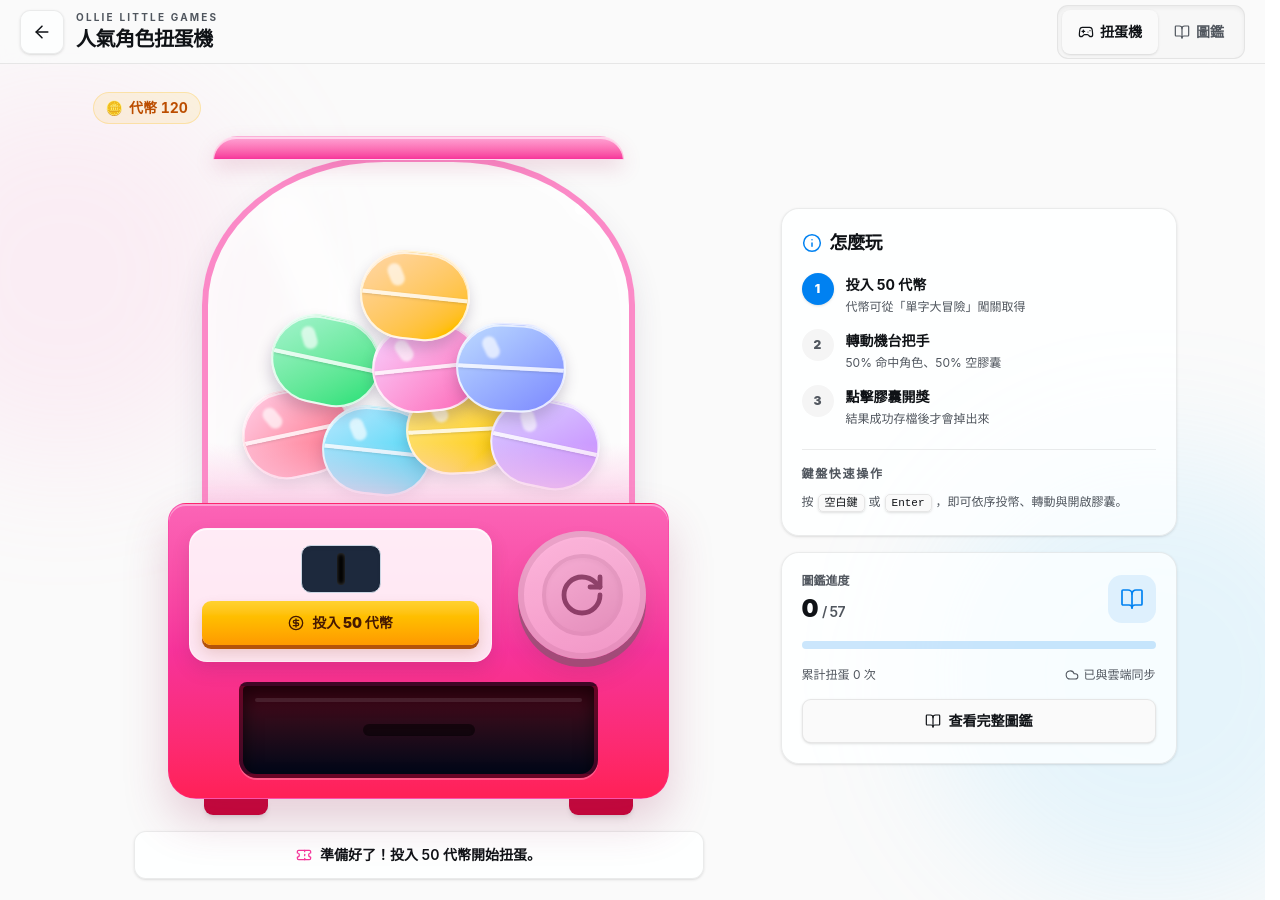
Test: GachaMachine coin economy › shows the coin balance and updates it after a paid draw
Click the button "投入 50 代幣" at (340, 623), box [202,601,479,645]
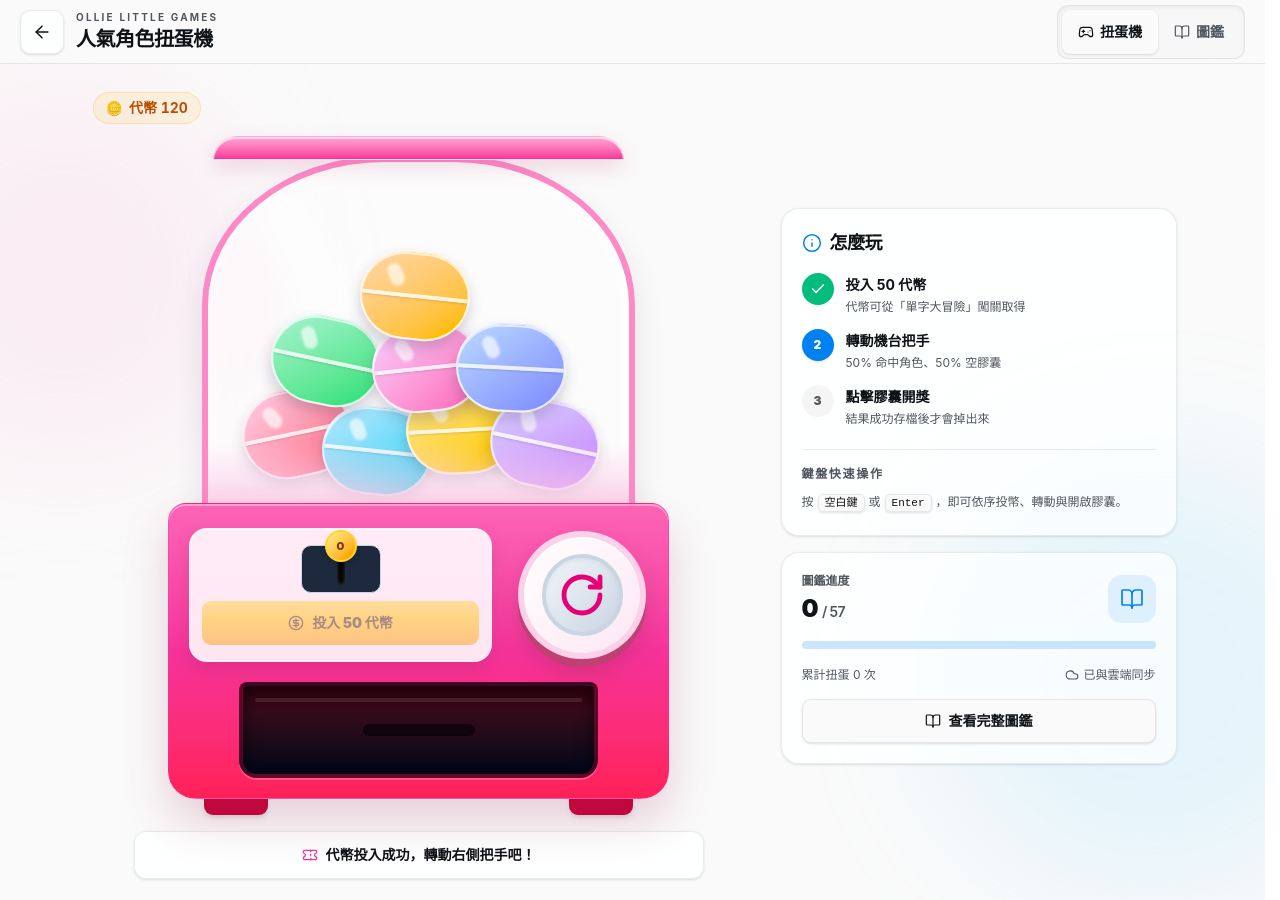
Click the button named "轉動扭蛋機把手" at (582, 595), box [518,531,646,659]
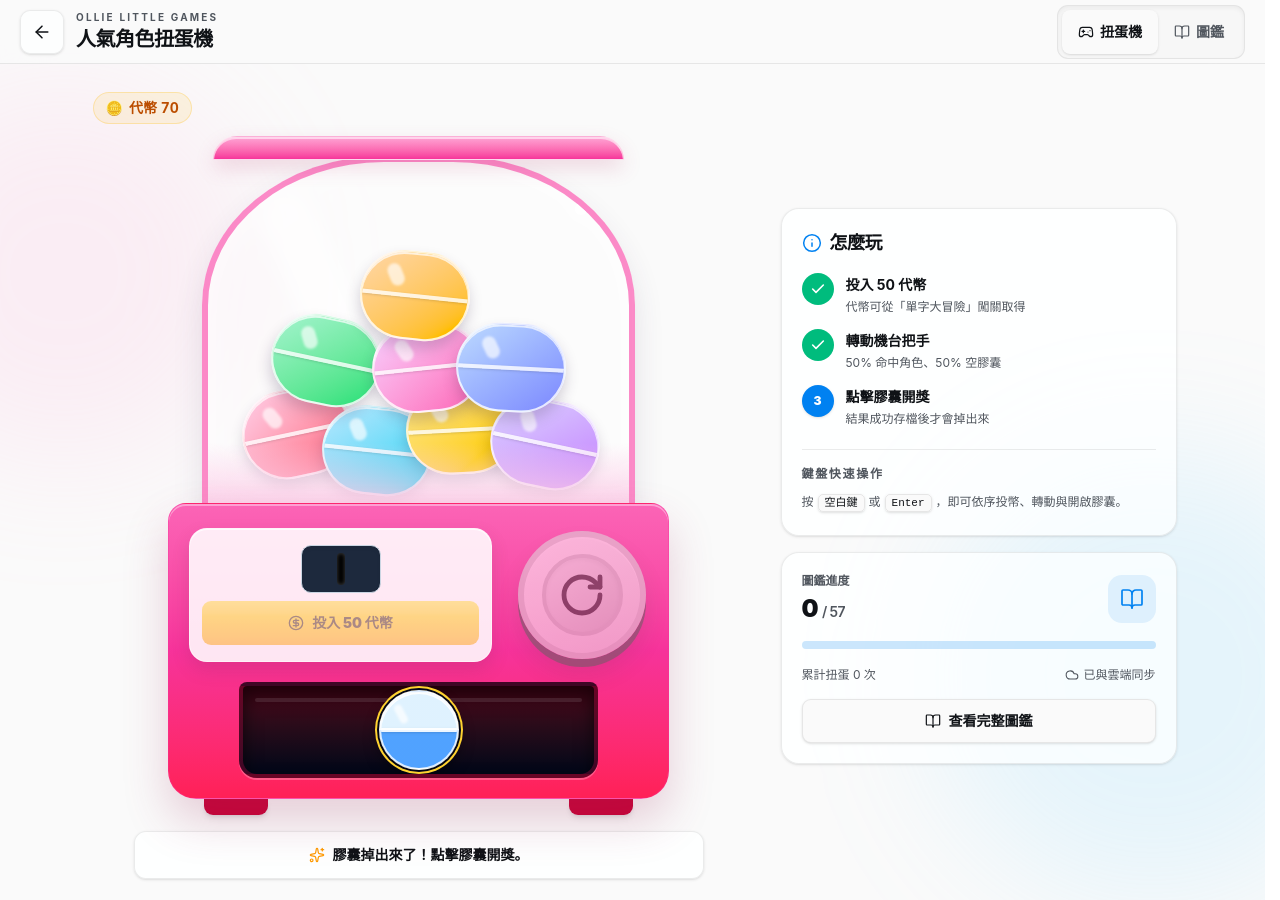
Expected: the text "代幣 70" is shown, [129,99,179,116]
